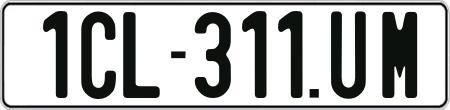1: (43, 8, 73, 95), (276, 11, 304, 98), (239, 11, 264, 104)
3: (194, 12, 236, 98)
C: (79, 10, 117, 103)
L: (120, 9, 158, 100)
M: (381, 9, 419, 96)
U: (331, 8, 369, 98)
